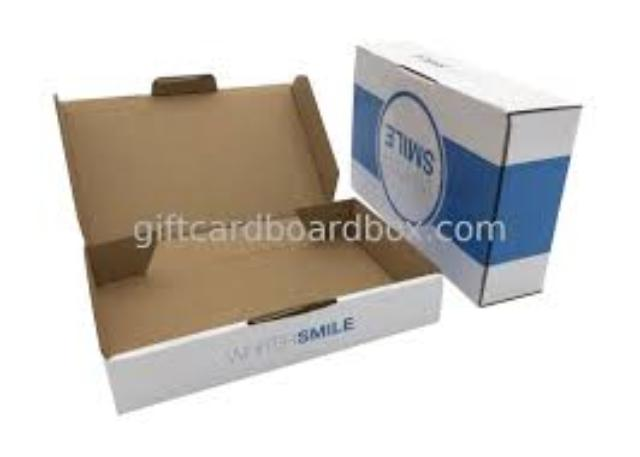cardboard paper: (53, 75, 438, 409), (349, 43, 575, 301)
